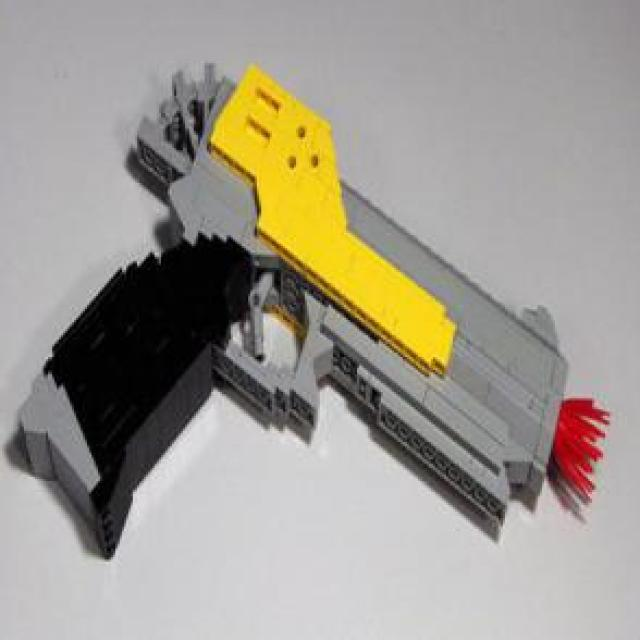pistol: (19, 50, 605, 578)
